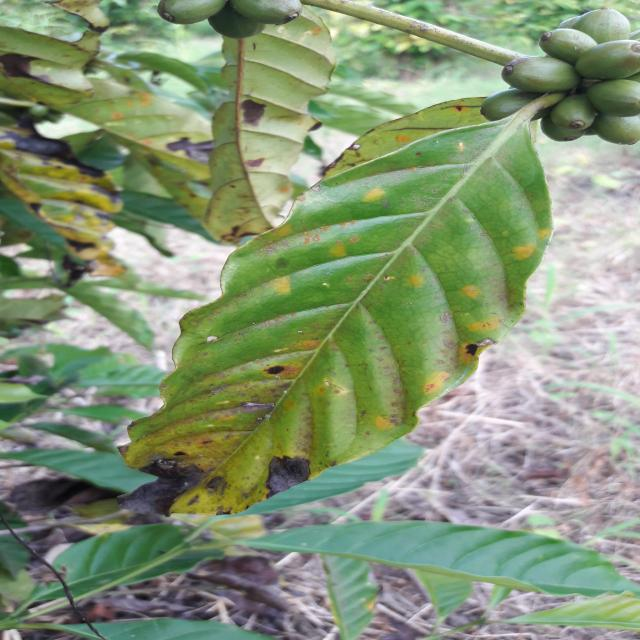Enfermedad-Roya: (120, 98, 553, 518)
